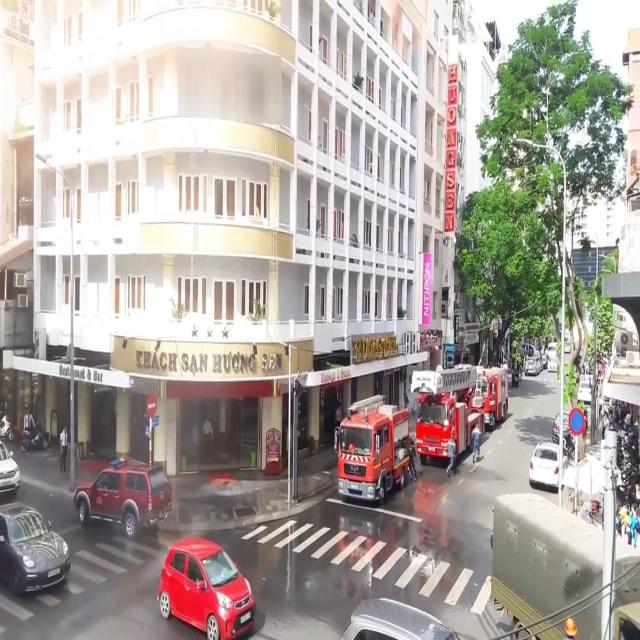car: (157, 537, 257, 637), (74, 453, 168, 537), (0, 502, 68, 588), (528, 440, 566, 493), (551, 410, 573, 440)
truck: (489, 491, 640, 640), (336, 394, 412, 502), (411, 369, 483, 464), (468, 362, 508, 428)
